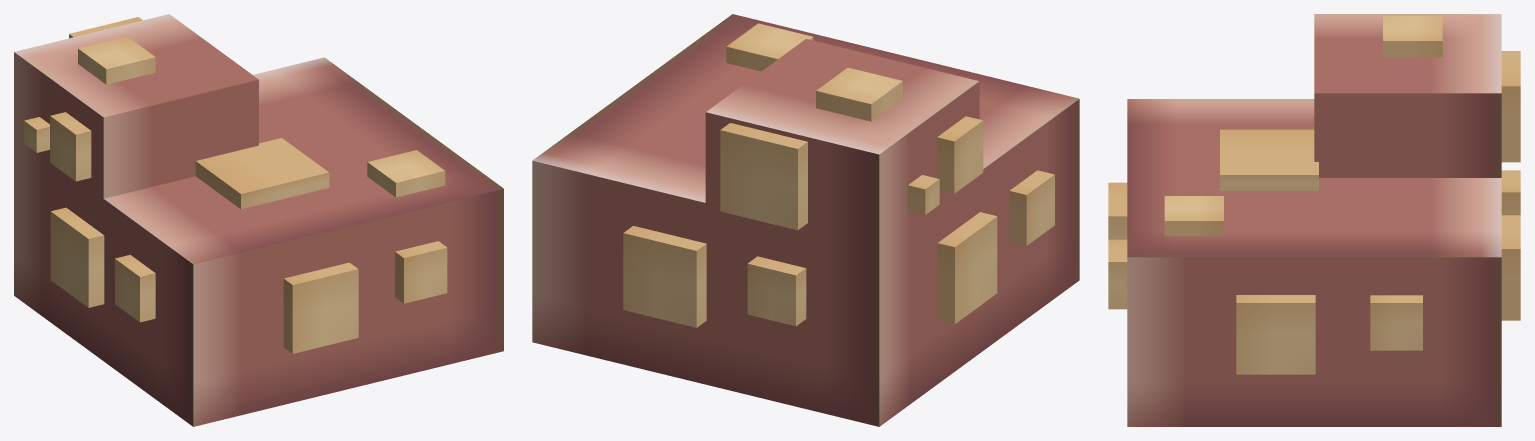
Rendered from Block_Destroy_Step3.fbx.
The picture shows the model from 3 angles, left to right: view 1: azimuth 30°, elevation 25°; view 2: azimuth 150°, elevation 25°; view 3: azimuth 270°, elevation 25°; orthographic projection. The views are drawn at different scales.
Visible parts, largest first — view 1: Block_Destroy_Step3; view 2: Block_Destroy_Step3; view 3: Block_Destroy_Step3.
Part boxes in pixels (bbox=[...]): Block_Destroy_Step3: bbox=[14, 14, 503, 426]; Block_Destroy_Step3: bbox=[532, 14, 1079, 426]; Block_Destroy_Step3: bbox=[1108, 14, 1520, 426].
Size of the model in its own units: 27.5 by 21.96 by 27.5.
Materials: 1 (1 with a texture image).
